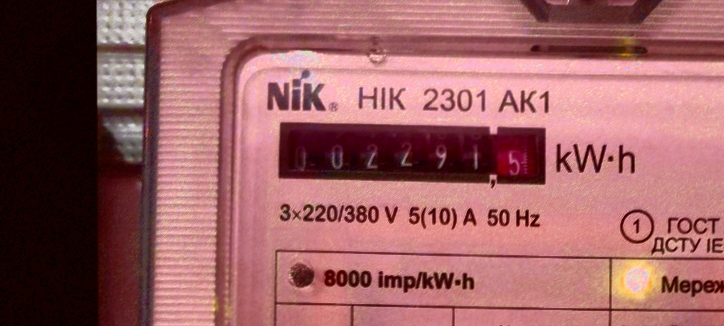0: (290, 140, 308, 169), (328, 140, 344, 169)
1: (467, 138, 481, 172)
2: (363, 140, 379, 169), (398, 138, 412, 167)
5: (505, 145, 521, 175)
9: (432, 140, 448, 170)
screen: (273, 114, 550, 191)
